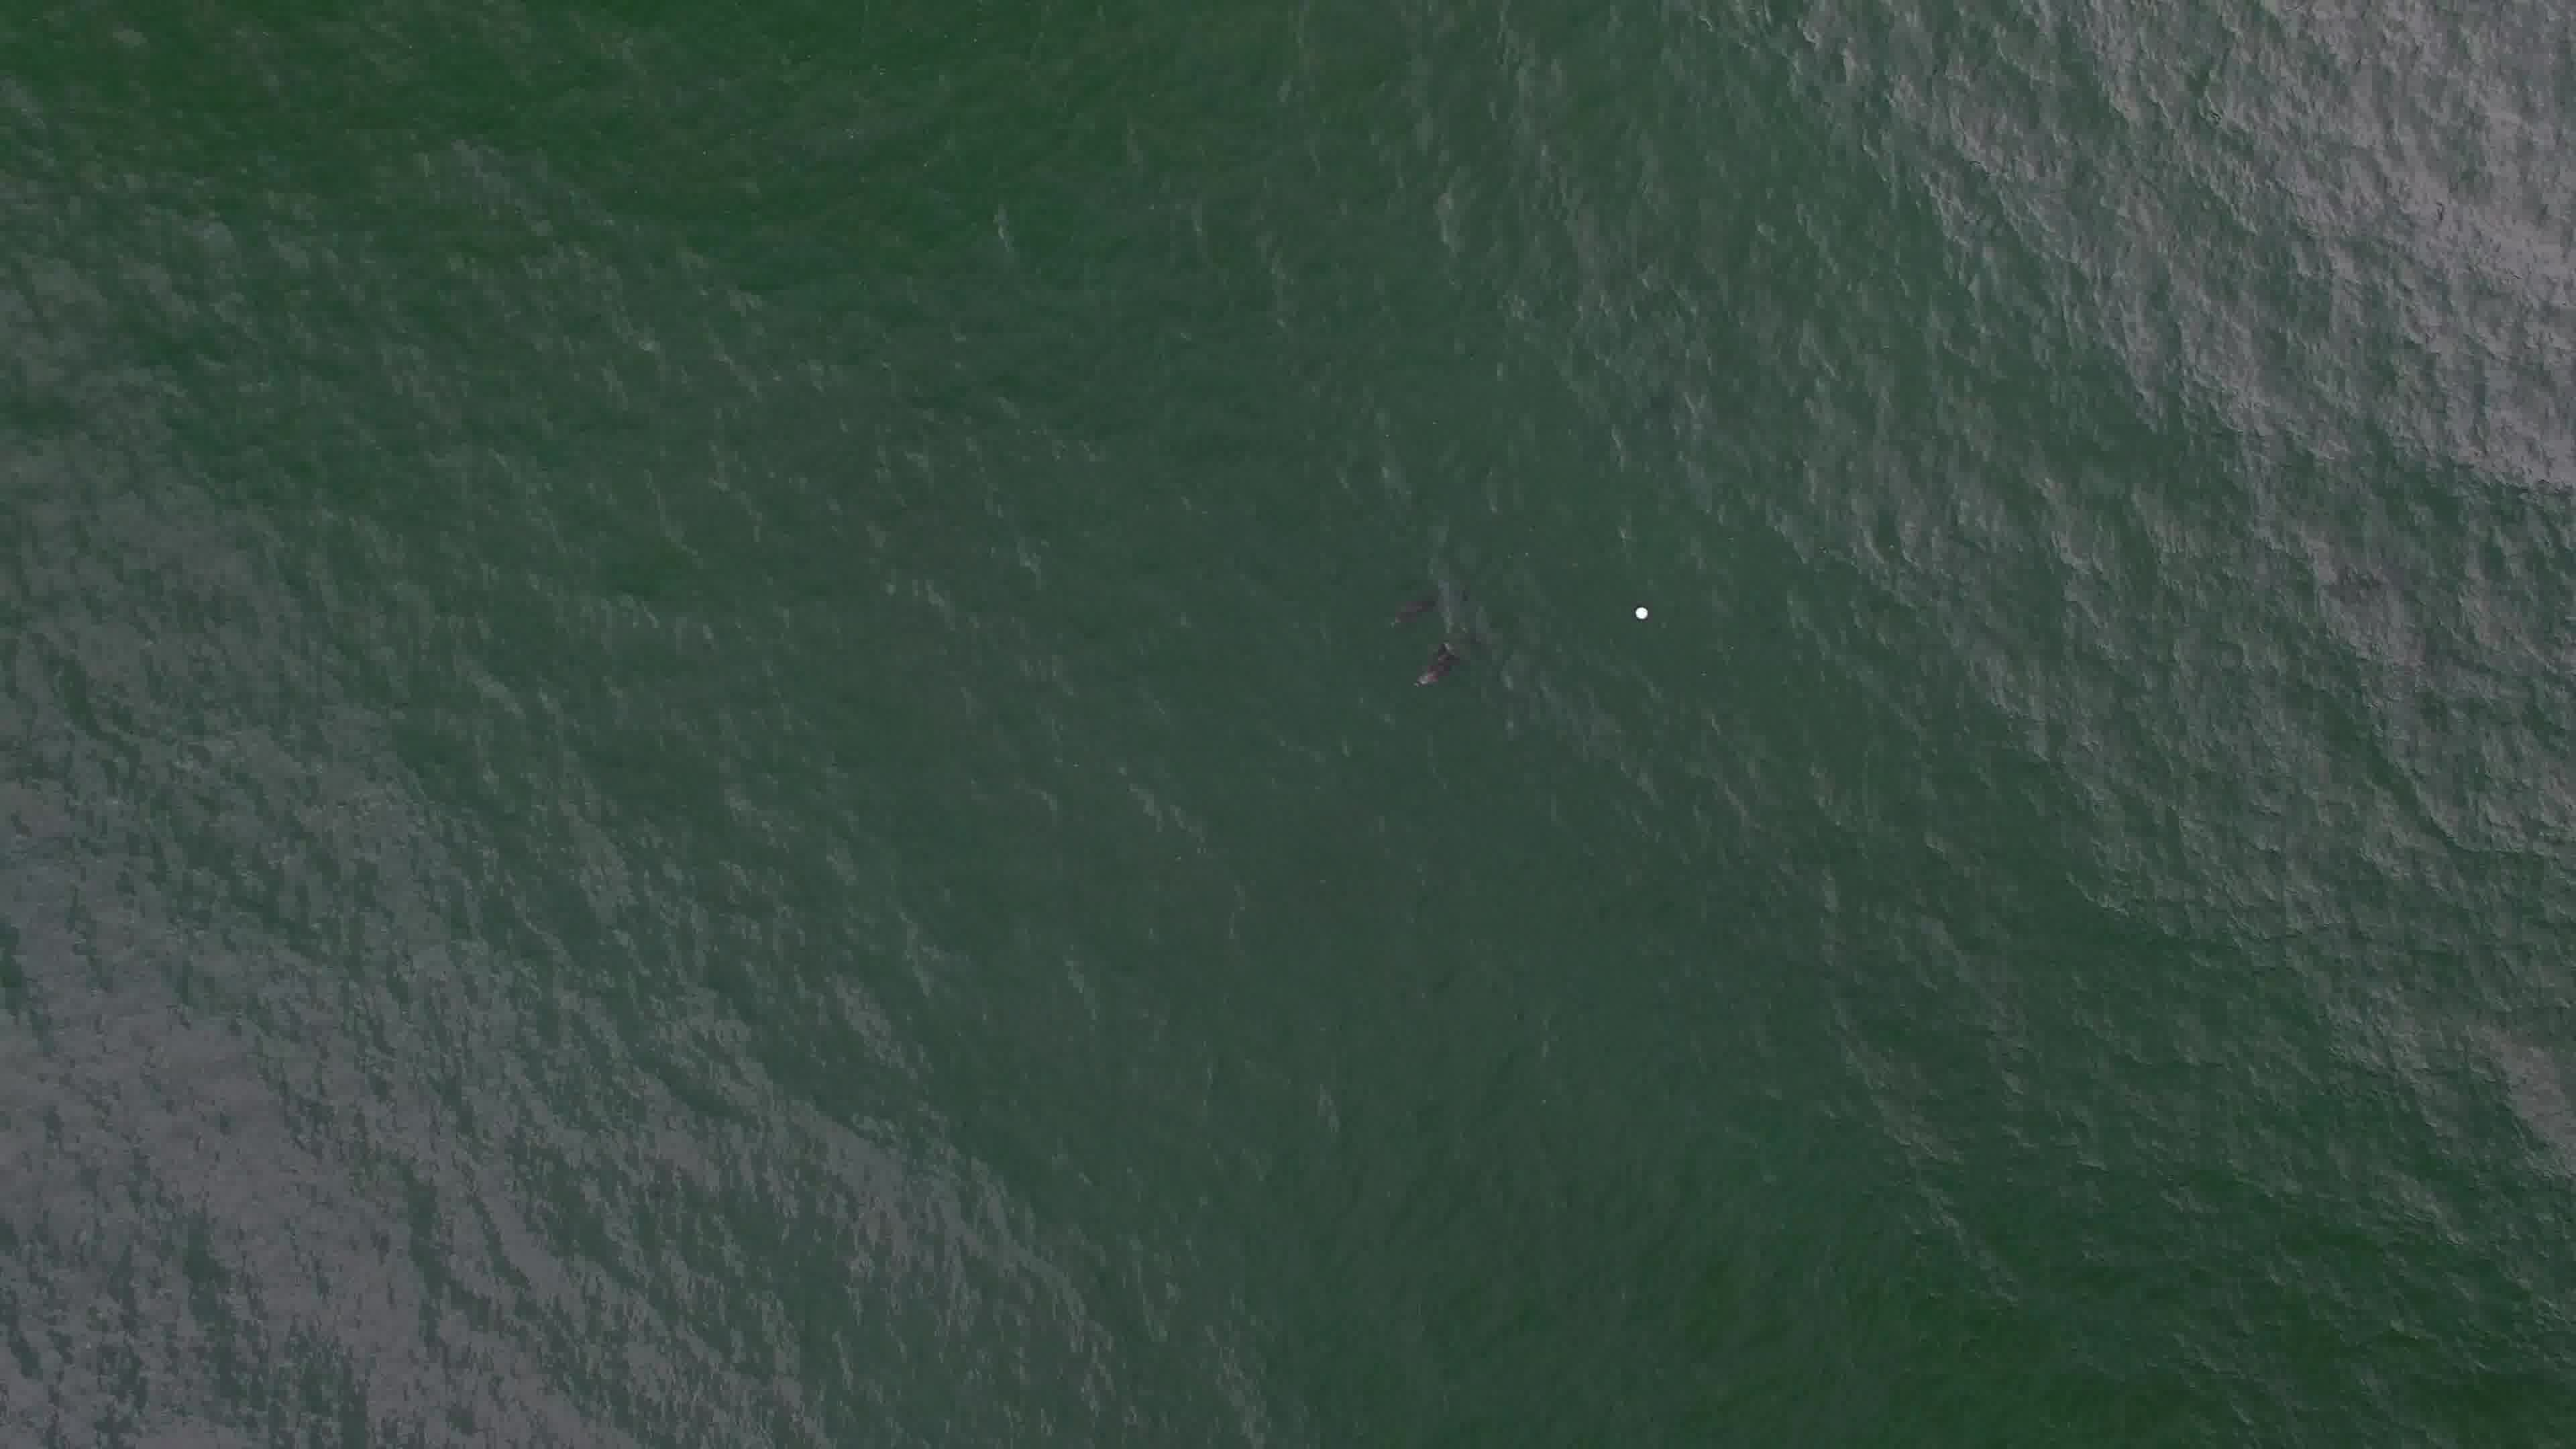dolphin: (1373, 605, 1506, 694), (1366, 573, 1467, 628)
